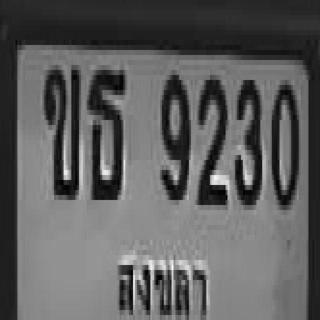A02: (42, 60, 79, 195)
A24: (87, 62, 125, 198)
N00: (270, 75, 297, 205)
N02: (195, 70, 225, 200)
N03: (233, 72, 260, 202)
N09: (160, 68, 189, 198)
P64: (108, 244, 215, 320)
